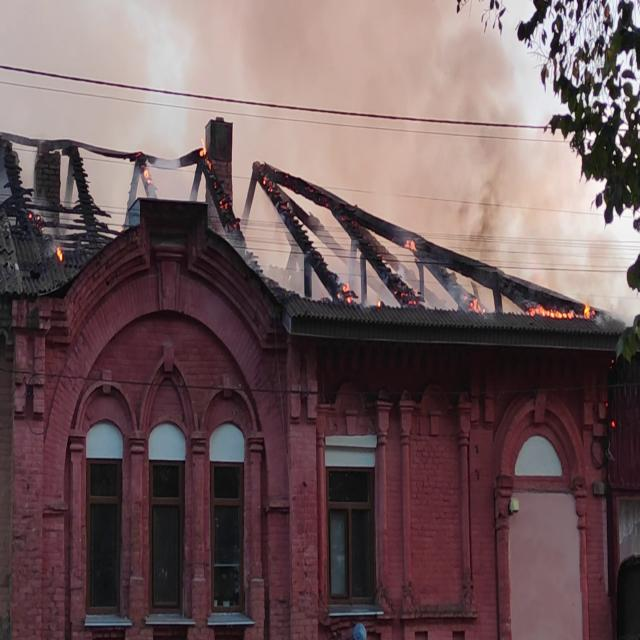fire: (522, 283, 604, 333), (28, 196, 70, 261), (200, 145, 231, 219), (402, 219, 437, 267)
smoke: (455, 101, 568, 250)
